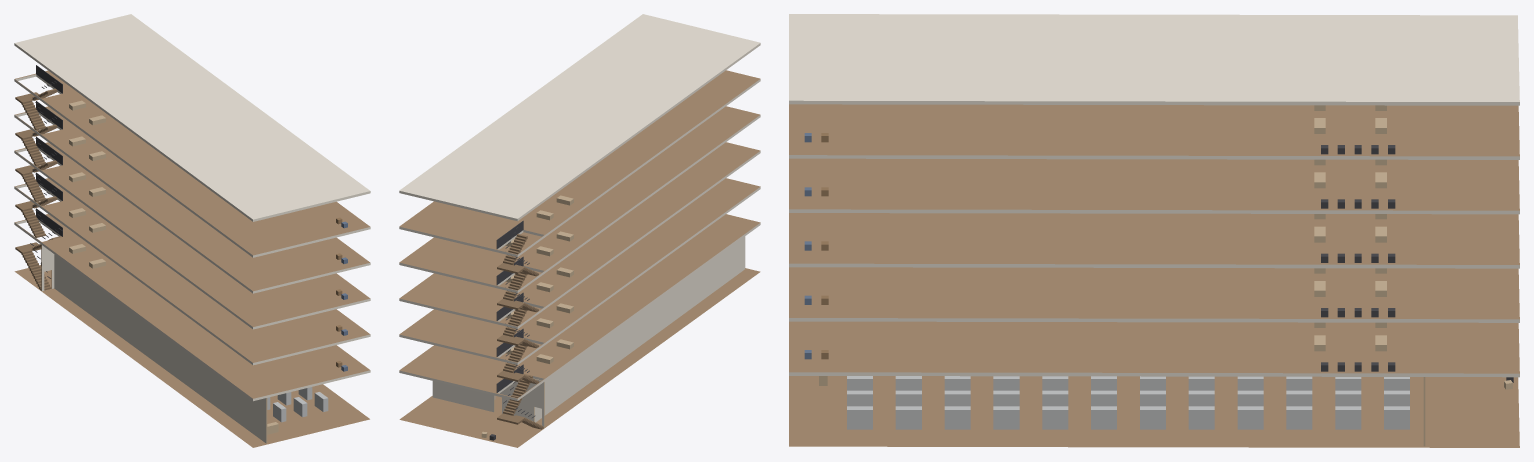
The model's file is interior.glb.
3 renders of one model, left to right at view 1: azimuth 30°, elevation 25°; view 2: azimuth 150°, elevation 25°; view 3: azimuth 270°, elevation 25°, orthographic. The views are drawn at different scales.
Visible parts, largest first — view 1: slabs, partitions, stair, coarse-s0; view 2: slabs, partitions, stair; view 3: slabs, coarse-s0, coarse-s4, coarse-s1, coarse-s3, coarse-s2, coarse-s5.
Boxes of the visible parts, left/top/right/bottom form: slabs: left=14, top=14, right=370, bottom=447; partitions: left=41, top=245, right=267, bottom=443; stair: left=15, top=65, right=62, bottom=290; coarse-s0: left=41, top=262, right=328, bottom=434; slabs: left=399, top=14, right=760, bottom=447; partitions: left=432, top=236, right=745, bottom=427; stair: left=496, top=220, right=543, bottom=429; slabs: left=789, top=14, right=1519, bottom=447; coarse-s0: left=819, top=376, right=1513, bottom=429; coarse-s4: left=804, top=159, right=1395, bottom=208; coarse-s1: left=804, top=322, right=1395, bottom=371; coarse-s3: left=804, top=214, right=1395, bottom=262; coarse-s2: left=804, top=268, right=1395, bottom=317; coarse-s5: left=804, top=105, right=1395, bottom=154.
Bounding box in the file's own units: 13.67 × 25.03 × 47.89.
